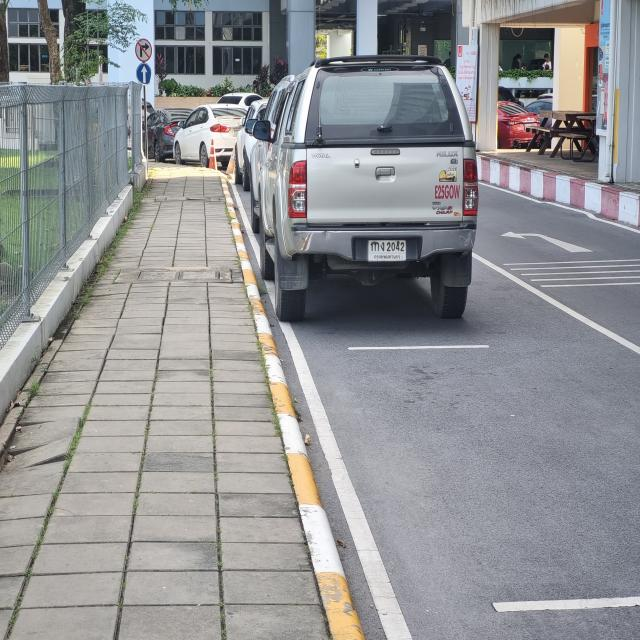license_plate: (367, 238, 410, 261)
